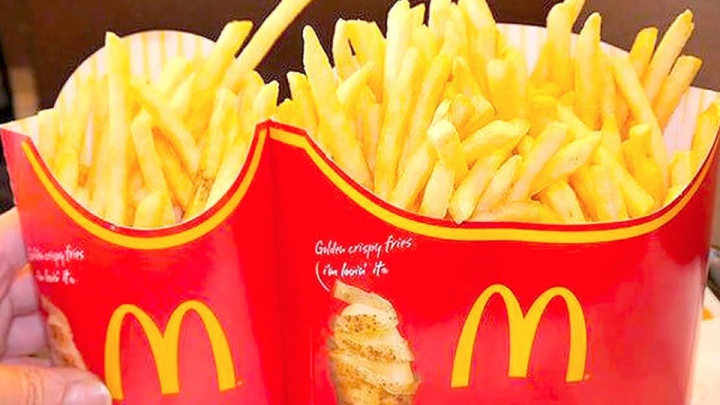mcdonalds: (431, 275, 601, 400), (99, 294, 249, 402)
